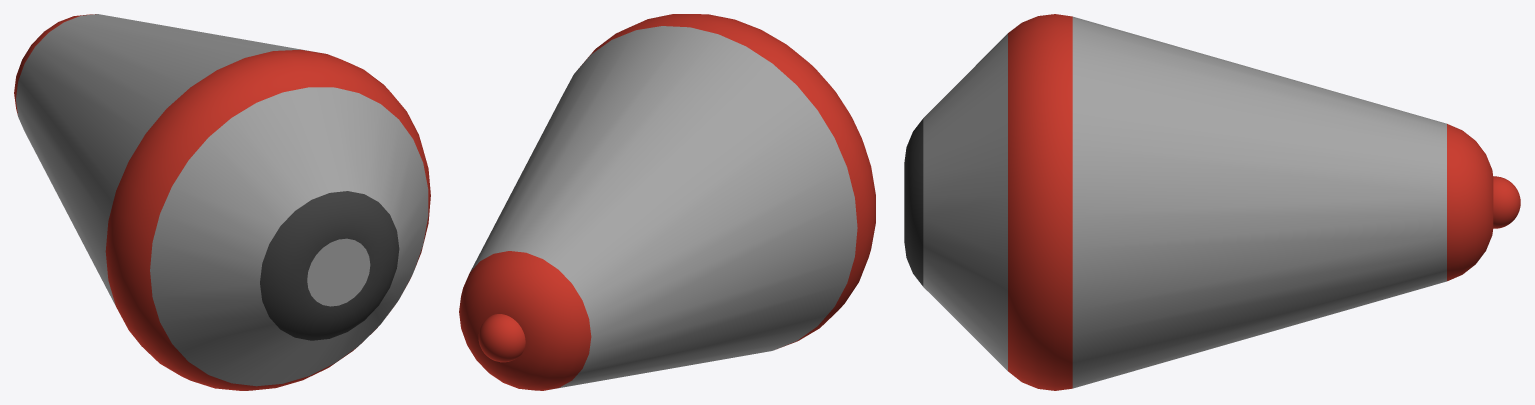
Rendered from beacon-v2.obj.
3 views of the same model, side by side, from view 1: azimuth 30°, elevation 25°; view 2: azimuth 150°, elevation 25°; view 3: azimuth 270°, elevation 25° (orthographic). The views are drawn at different scales.
Parts seen in each view (by area): view 1: Body1:1; view 2: Body1:1, Body1; view 3: Body1:1, Body1.
Boxes of the visible parts, x1,y1,x2,y2 form: Body1:1: (14,14,430,390); Body1:1: (459,14,875,390); Body1: (478,314,525,362); Body1:1: (904,14,1493,390); Body1: (1493,176,1520,228).
Bounding box in the file's own units: 2.87 × 2.87 × 4.7.
